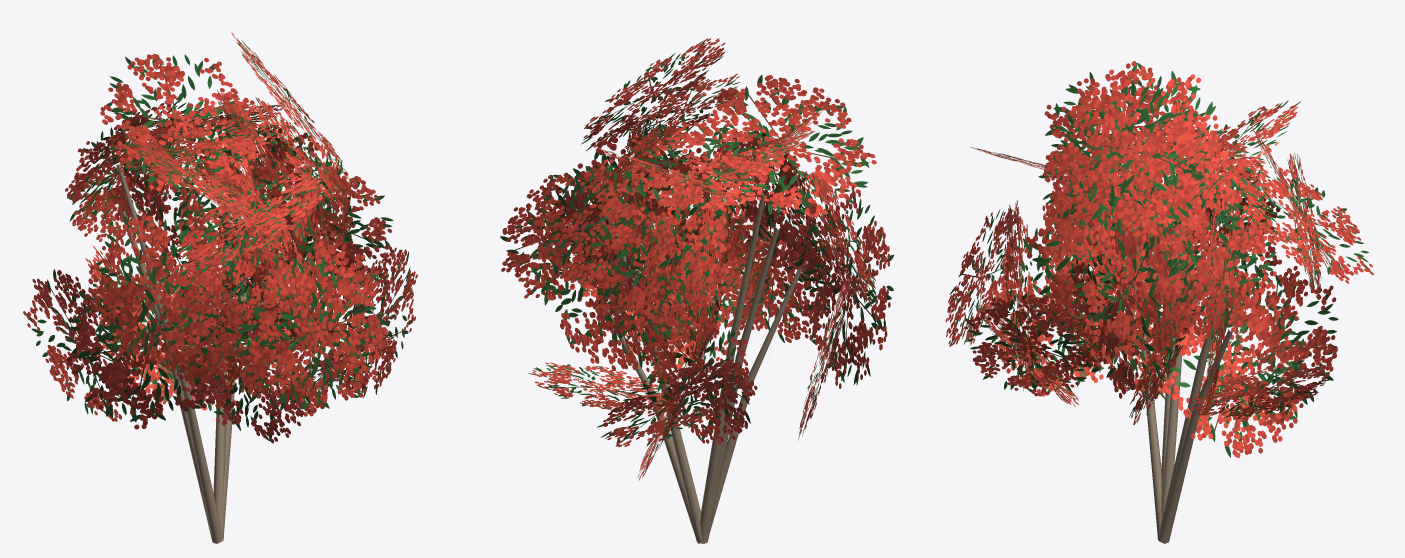
Rendered from ixora-coccinea.glb.
3 renders of one model, left to right at view 1: azimuth 30°, elevation 25°; view 2: azimuth 150°, elevation 25°; view 3: azimuth 270°, elevation 25°, orthographic.
Visible parts, largest first — view 1: folhas, galhos; view 2: folhas, galhos; view 3: folhas, galhos.
Part boxes in pixels (x1,y1,x2,y2): folhas: (23, 32, 417, 443); galhos: (116, 162, 244, 543); folhas: (500, 38, 894, 480); galhos: (604, 194, 802, 543); folhas: (945, 61, 1373, 457); galhos: (1127, 128, 1243, 543).
Bounding box in the file's own units: 1.07 × 1.5 × 1.2.
2 materials, 1 textured.
